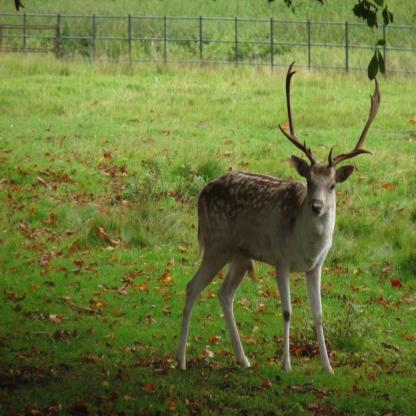Deer: (172, 59, 382, 380)
